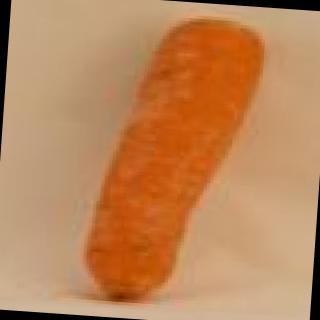Wortel: (68, 6, 296, 317)
